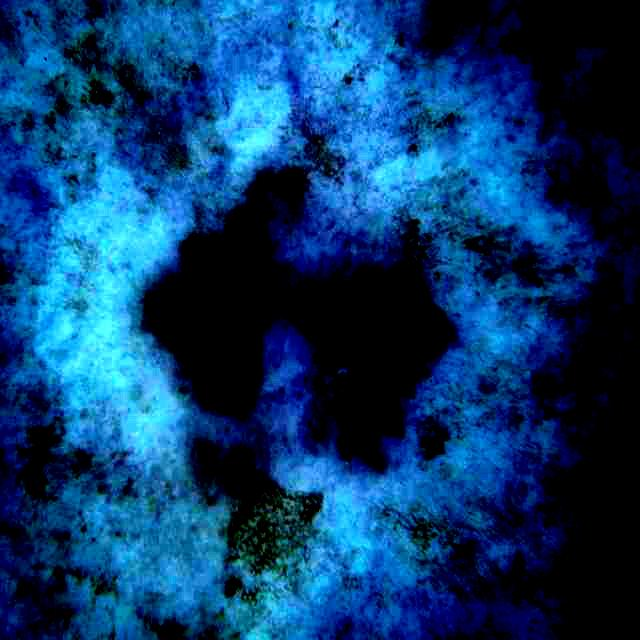AKIEC: (147, 169, 439, 460)
